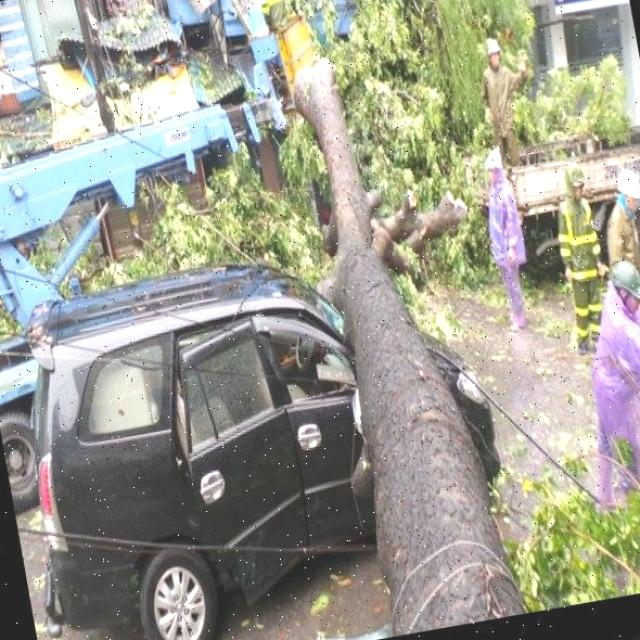fallen_object: (275, 19, 522, 639)
